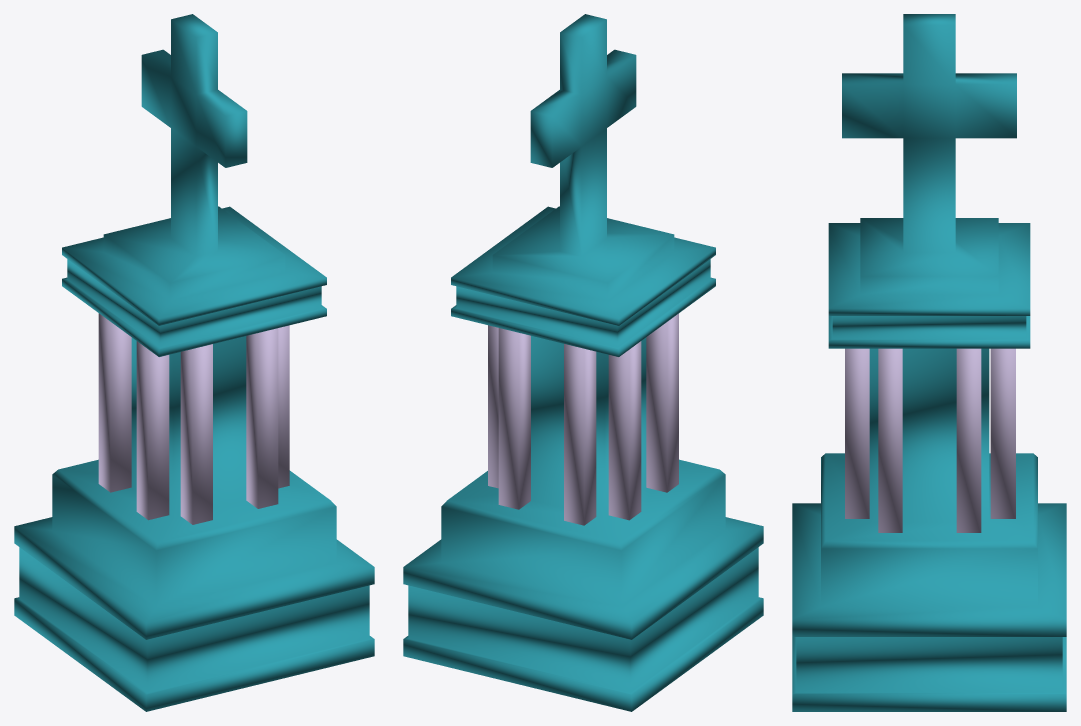
The model's file is tomb3_resized_uvs.fbx.
3 views of the same model, side by side, from view 1: azimuth 30°, elevation 25°; view 2: azimuth 150°, elevation 25°; view 3: azimuth 270°, elevation 25° (orthographic). The views are drawn at different scales.
Visible parts, largest first — view 1: Tombe3:tombe_redone, Tombe3:tombe_barres; view 2: Tombe3:tombe_redone, Tombe3:tombe_barres; view 3: Tombe3:tombe_redone, Tombe3:tombe_barres.
Boxes of the visible parts, x1,y1,x2,y2 form: Tombe3:tombe_redone: [14, 14, 374, 711]; Tombe3:tombe_barres: [98, 313, 289, 524]; Tombe3:tombe_redone: [403, 14, 763, 711]; Tombe3:tombe_barres: [488, 313, 678, 525]; Tombe3:tombe_redone: [792, 14, 1066, 711]; Tombe3:tombe_barres: [845, 348, 1015, 532].
Bounding box in the file's own units: 132 × 337 × 132.
